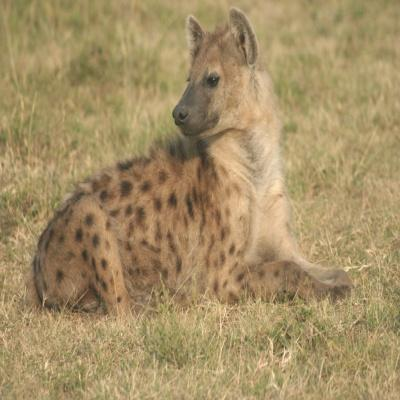hyenas: (25, 2, 400, 355)
